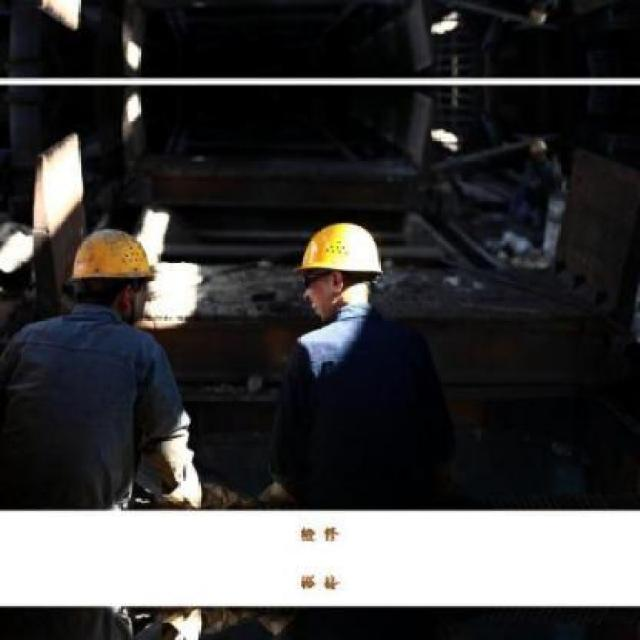hat: (66, 226, 159, 288), (296, 223, 387, 280)
